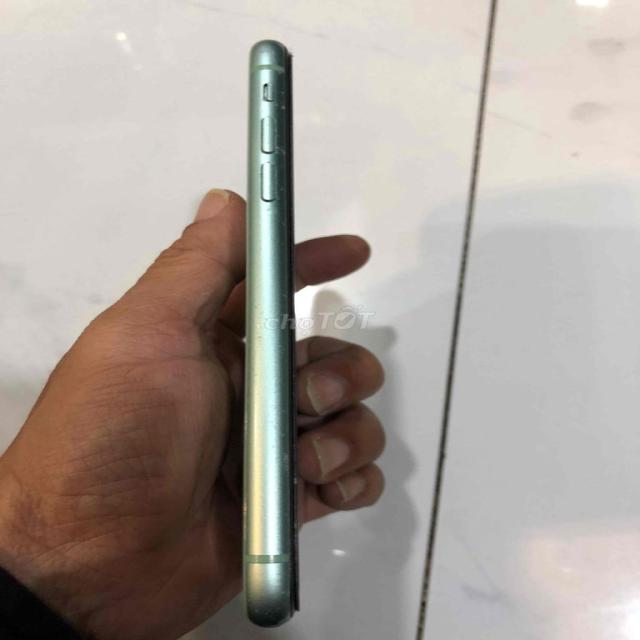scratch: (260, 54, 290, 261), (247, 401, 292, 509), (255, 565, 290, 629), (248, 302, 275, 366), (279, 292, 296, 311)
